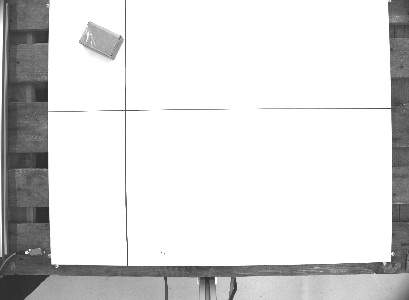b1: (76, 19, 126, 63)
